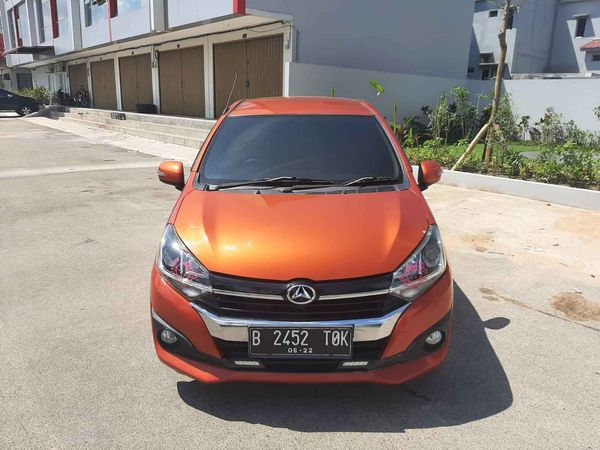plate: (249, 321, 353, 360)
